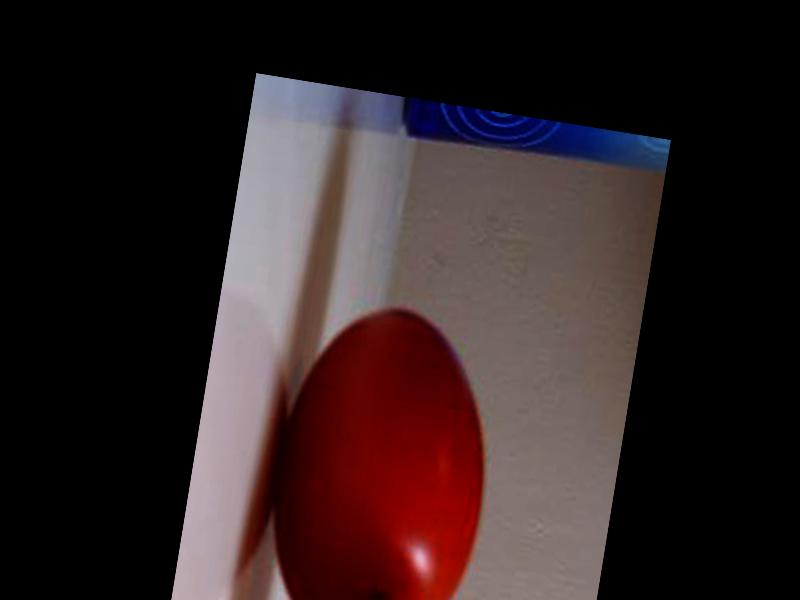Tomato: (254, 296, 507, 600)
